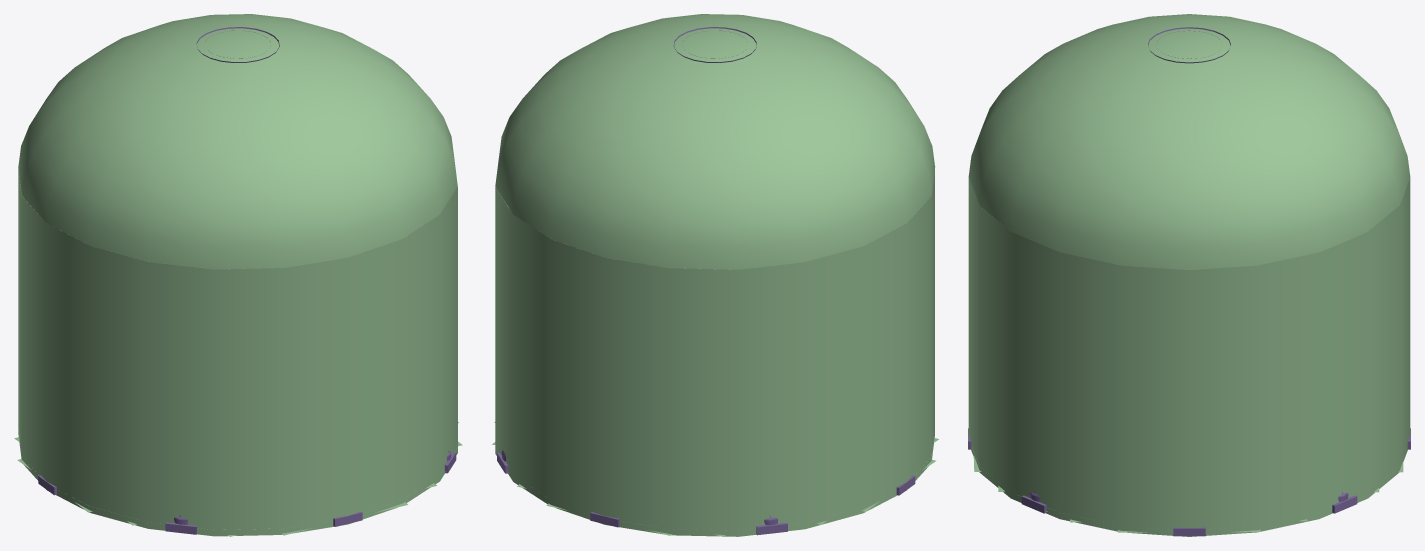
File: cmc_dungeon_floorB0.fbx
The picture shows the model from 3 angles, left to right: view 1: azimuth 30°, elevation 25°; view 2: azimuth 150°, elevation 25°; view 3: azimuth 270°, elevation 25°; orthographic projection.
Parts seen in each view (by area): view 1: walls, ceiling; view 2: walls, ceiling; view 3: walls, ceiling.
Boxes of the visible parts, x1,y1,x2,y2 form: walls: [18, 168, 457, 536]; ceiling: [18, 14, 457, 269]; walls: [495, 170, 934, 536]; ceiling: [495, 14, 934, 269]; walls: [968, 177, 1410, 536]; ceiling: [968, 14, 1410, 269].
Bounding box in the file's own units: 105 × 105 × 105.
